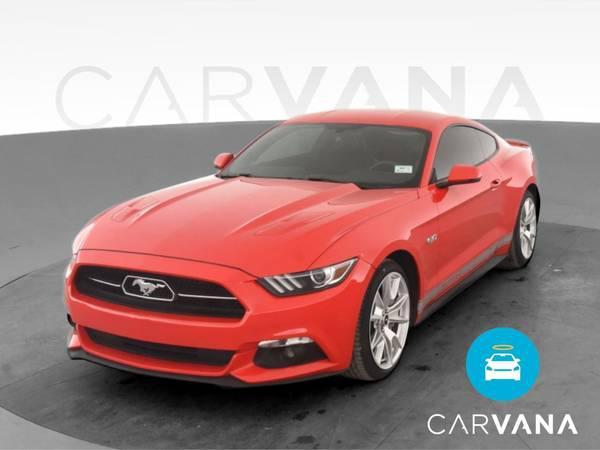Front_Bumper: (62, 258, 376, 383)
Front_Fender: (311, 184, 439, 322)
Front_Left_Door: (430, 166, 506, 300)
Front_Left_Window: (428, 127, 488, 185)
Front_Windshield: (222, 122, 430, 188)
Grille: (66, 259, 247, 320)
Hood: (75, 176, 421, 281)
Left_Headlight: (256, 256, 359, 300)
Rear_Fender: (479, 130, 537, 261)
Roof: (278, 107, 509, 186)
Wheel: (346, 261, 415, 382), (513, 197, 539, 267)
